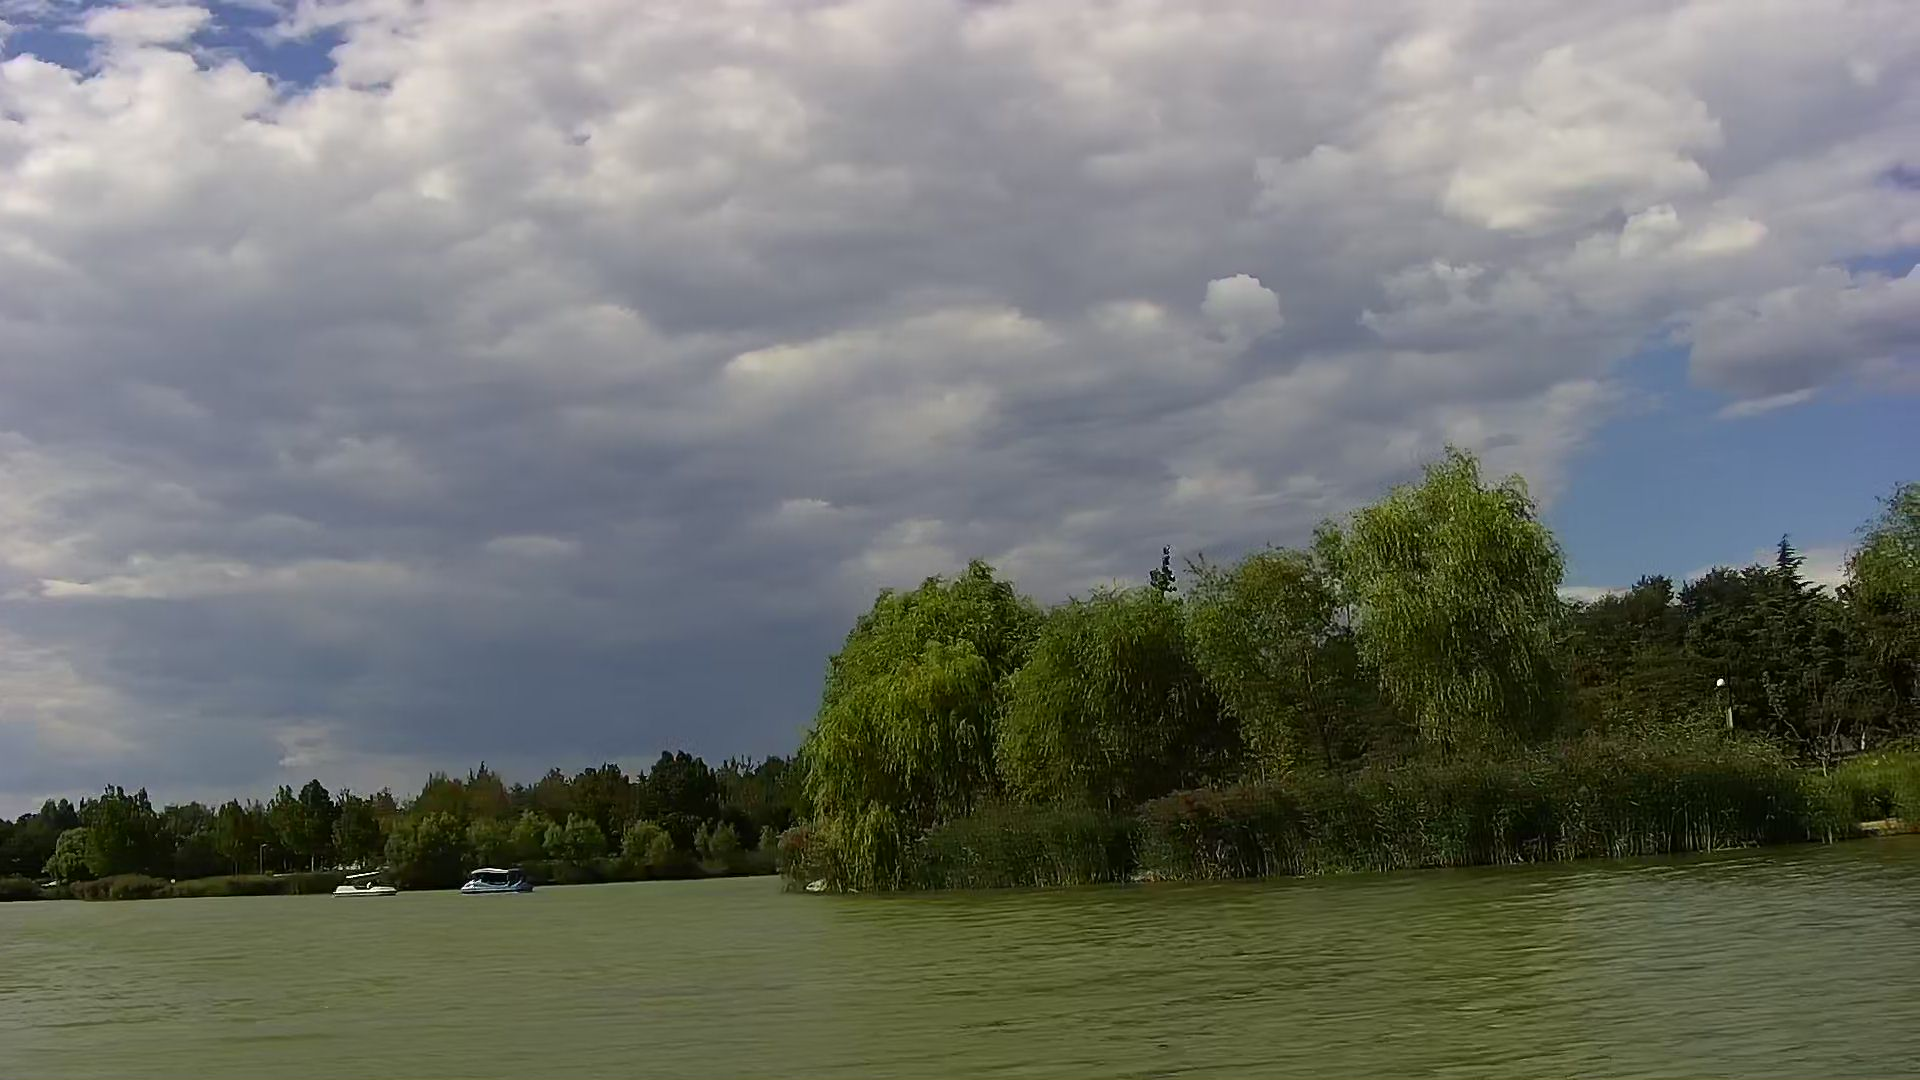boat: (462, 866, 534, 899), (334, 870, 397, 899)
rock: (804, 877, 833, 898)
